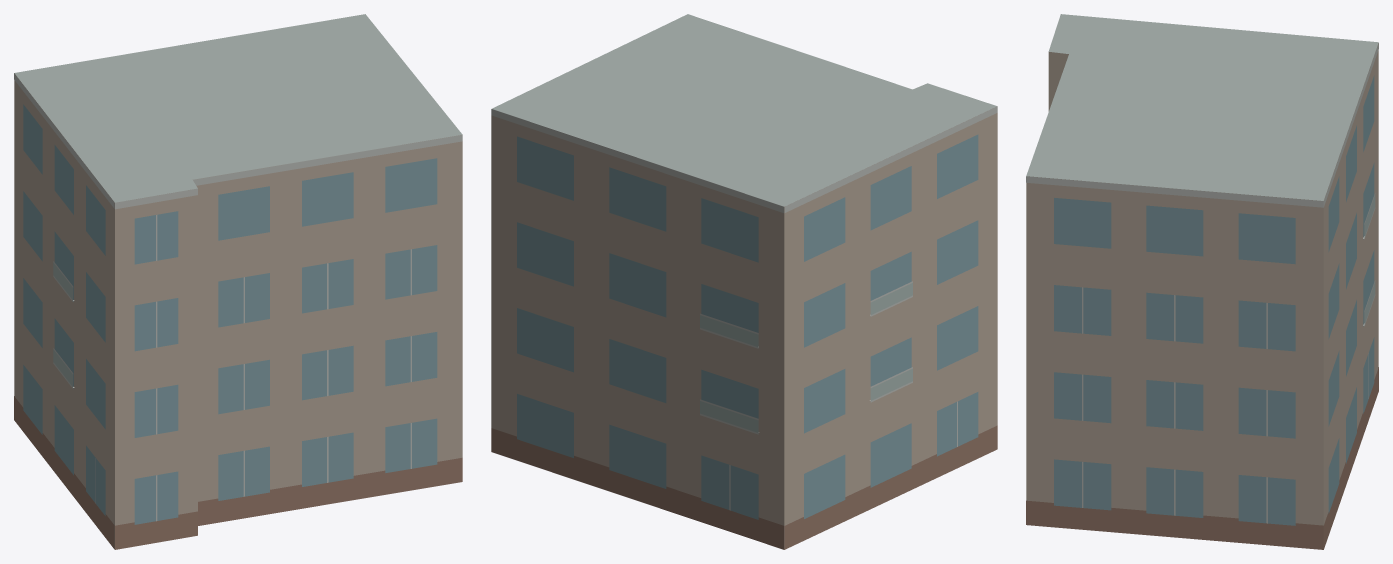
File: survey-upis-32663580.glb
The picture shows the model from 3 angles, left to right: view 1: azimuth 30°, elevation 25°; view 2: azimuth 150°, elevation 25°; view 3: azimuth 270°, elevation 25°; orthographic projection.
Visible parts, largest first — view 1: survey-upis-32663580.tmp; view 2: survey-upis-32663580.tmp; view 3: survey-upis-32663580.tmp.
Part boxes in pixels (left/top/right/bottom): survey-upis-32663580.tmp: left=14, top=14, right=462, bottom=549; survey-upis-32663580.tmp: left=491, top=14, right=997, bottom=549; survey-upis-32663580.tmp: left=1026, top=14, right=1378, bottom=549.
Bounding box in the file's own units: 14.73 × 12.8 × 11.74.
